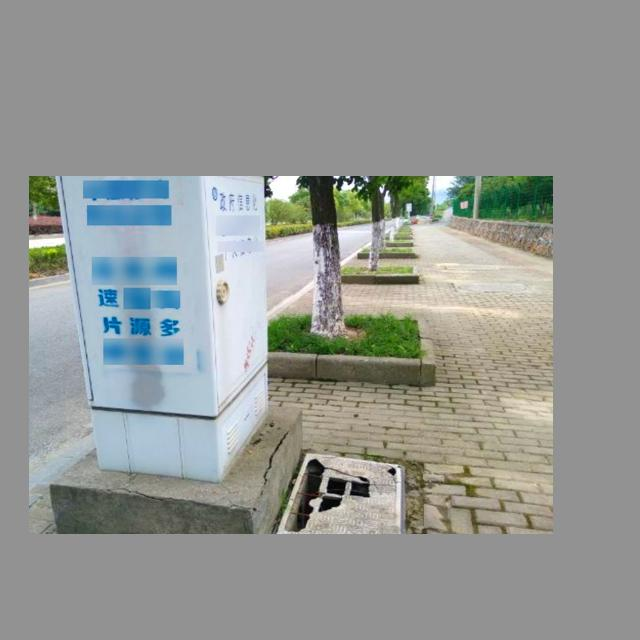broke: (270, 450, 410, 534)
